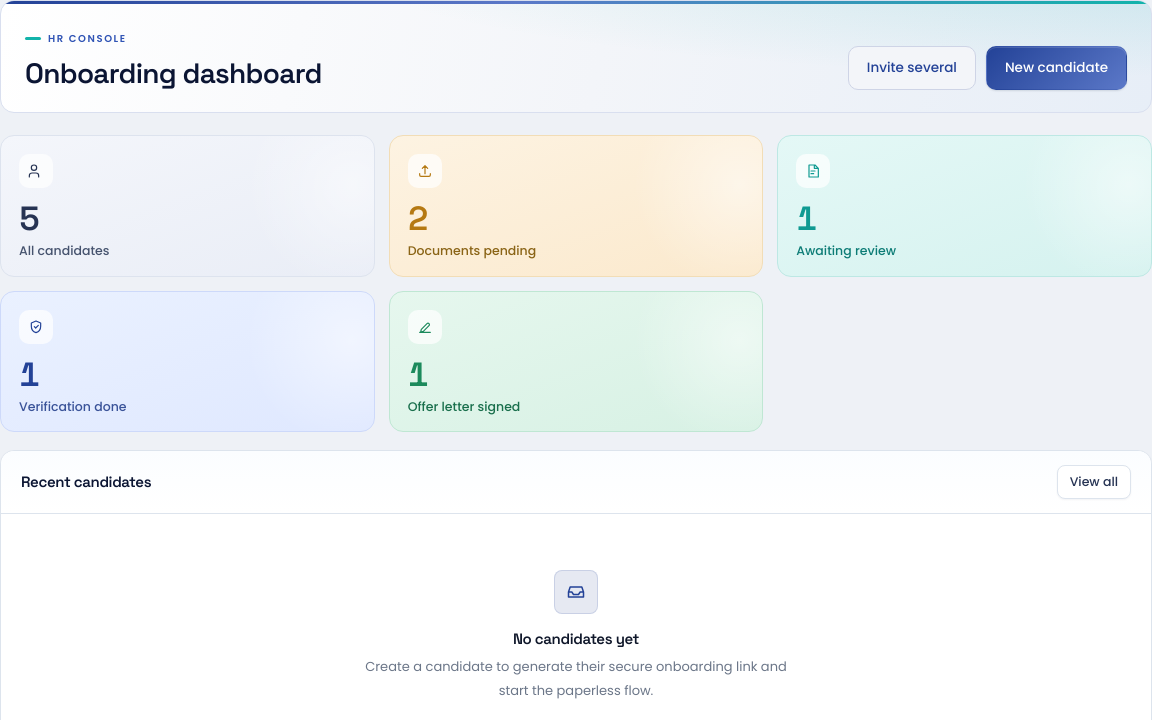
Test: clicking a dashboard figure › opens the whole list from the first tile
Click the button "5 All candidates": (36, 171) x1=0 y1=135 x2=375 y2=276
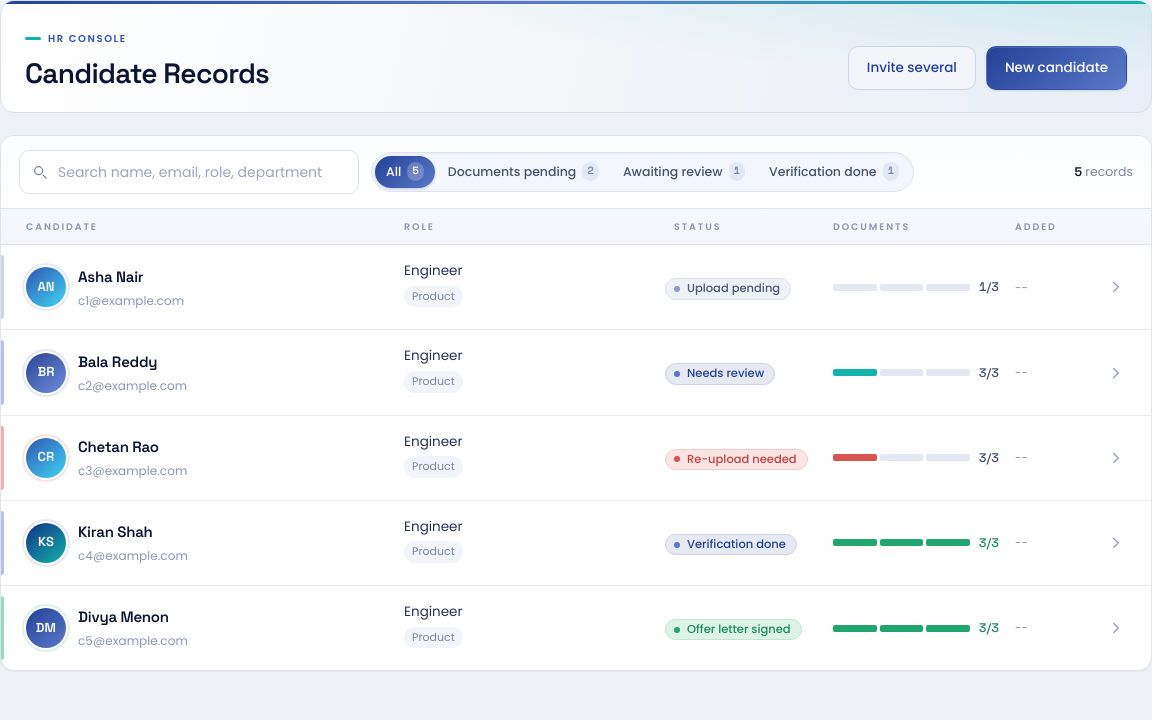
Expected: the text "Asha Nair" is shown, x1=78 y1=267 x2=144 y2=286
Expected: the text "Divya Menon" is shown, x1=78 y1=608 x2=169 y2=626
